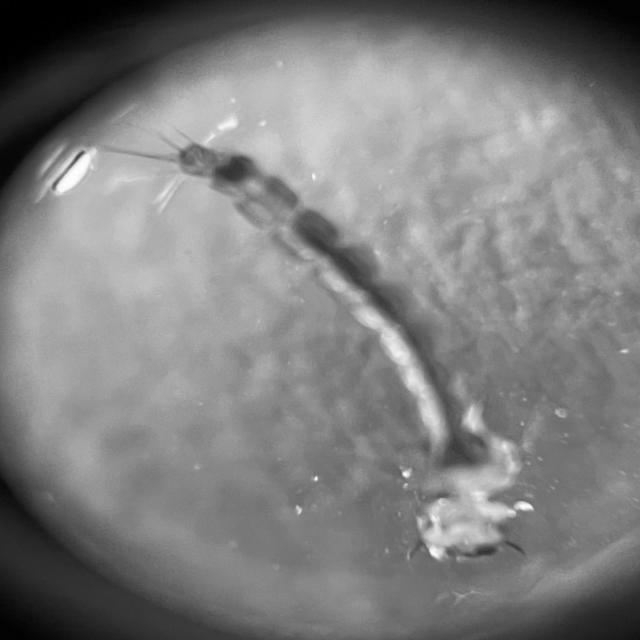larvas: (178, 138, 517, 557)
